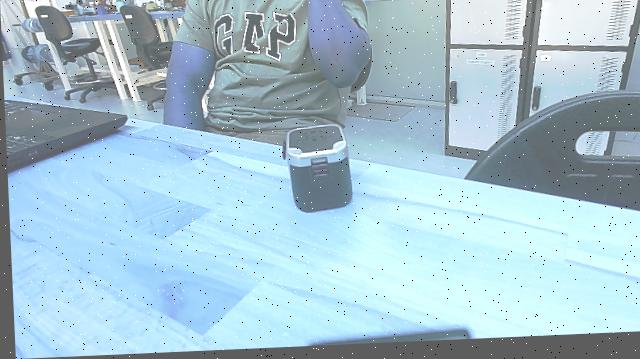adapter: (277, 122, 356, 219)
